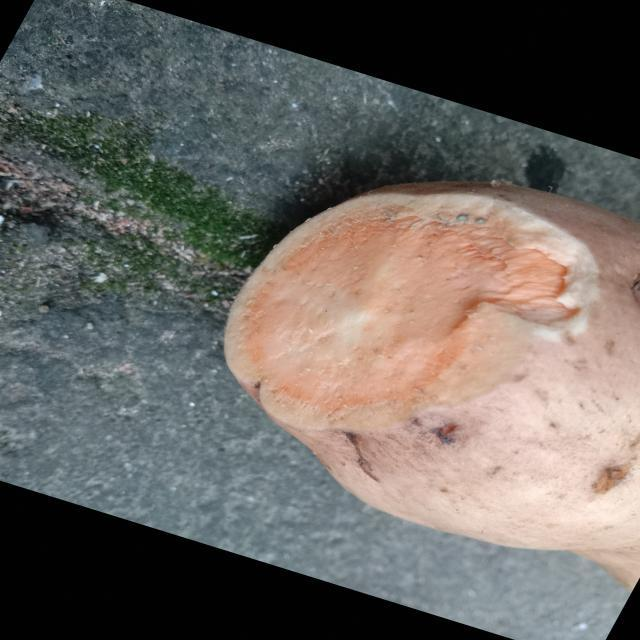Healthy Sweet Potato: (225, 185, 598, 429)
